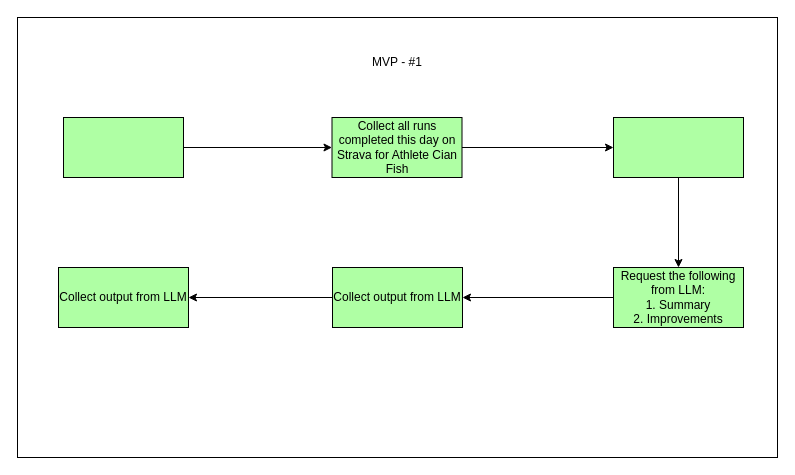
The diagram is 795 pixels wide and 475 high, and some of its shapes have lost their labels. Here are the shapes that lost their labels. From the top down, the box of each, then its label:
(62, 116, 184, 178): 8PM Everyday - Start Process
(612, 116, 744, 178): Input the run data to Gemani (LLM)
